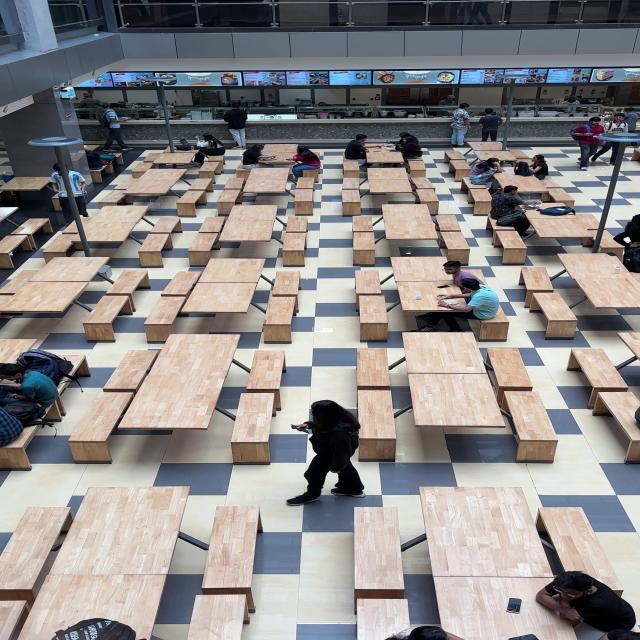Occupied: (431, 575, 581, 640), (536, 570, 638, 636), (1, 365, 58, 411), (488, 186, 540, 231), (356, 599, 412, 640), (12, 351, 74, 384), (51, 163, 90, 215), (449, 284, 498, 322), (399, 281, 464, 309), (568, 349, 620, 377), (439, 264, 486, 294), (270, 272, 300, 312), (1, 398, 46, 424), (189, 134, 226, 164), (470, 158, 503, 191), (287, 149, 321, 179), (344, 134, 372, 168), (406, 626, 468, 640), (393, 134, 423, 161), (241, 144, 272, 170), (525, 202, 571, 218), (492, 166, 532, 184), (257, 151, 301, 167), (152, 145, 193, 157), (566, 349, 585, 372), (362, 144, 398, 152), (514, 161, 532, 177), (159, 146, 199, 153), (524, 204, 542, 208)
Unoccupied: (46, 486, 192, 576), (420, 487, 551, 578), (116, 339, 242, 427), (13, 574, 170, 640), (533, 507, 624, 595), (0, 506, 71, 601), (410, 373, 508, 427), (201, 506, 262, 589), (66, 392, 138, 458), (353, 507, 400, 603), (555, 255, 638, 308), (72, 207, 158, 256), (501, 391, 559, 458), (0, 279, 96, 317), (109, 169, 192, 209), (593, 393, 640, 459), (403, 335, 489, 370), (231, 396, 277, 460), (522, 215, 601, 252), (185, 594, 247, 640), (484, 351, 534, 408), (215, 205, 279, 245), (180, 282, 260, 314), (357, 395, 399, 455), (245, 352, 287, 410), (102, 352, 160, 392), (377, 205, 439, 242), (237, 170, 295, 208), (26, 258, 112, 283), (532, 293, 582, 336), (365, 168, 416, 209), (82, 296, 132, 336), (107, 266, 153, 305), (144, 300, 186, 338), (196, 258, 267, 280), (520, 267, 556, 309), (526, 222, 594, 244), (262, 299, 297, 341), (1, 177, 53, 205), (356, 348, 391, 386), (389, 255, 446, 278), (4, 218, 50, 246), (351, 215, 378, 262), (475, 302, 509, 338), (492, 229, 528, 262), (143, 216, 181, 247), (354, 271, 386, 307), (582, 230, 626, 256), (142, 152, 198, 172), (160, 271, 202, 297), (137, 233, 171, 265), (262, 276, 297, 306), (41, 231, 80, 257), (489, 182, 549, 198), (186, 232, 218, 262), (491, 175, 545, 192), (1, 270, 36, 296), (440, 230, 470, 260), (175, 189, 207, 215), (469, 150, 517, 167), (282, 232, 307, 264), (466, 184, 493, 213), (0, 338, 38, 358), (215, 188, 243, 215), (0, 236, 29, 262), (542, 184, 576, 206), (94, 191, 130, 210), (414, 188, 440, 214), (617, 332, 639, 362), (183, 178, 214, 198), (196, 216, 226, 236), (293, 188, 315, 215), (341, 187, 362, 215), (222, 177, 250, 198), (260, 144, 300, 158), (42, 396, 65, 420), (434, 215, 464, 233), (448, 157, 472, 179), (528, 154, 549, 178), (284, 216, 308, 236), (198, 160, 221, 180), (365, 152, 404, 163), (467, 141, 506, 152), (58, 509, 74, 534), (406, 159, 427, 178), (296, 173, 318, 190), (342, 158, 361, 177), (51, 194, 67, 212), (142, 152, 165, 164), (233, 168, 252, 180)
